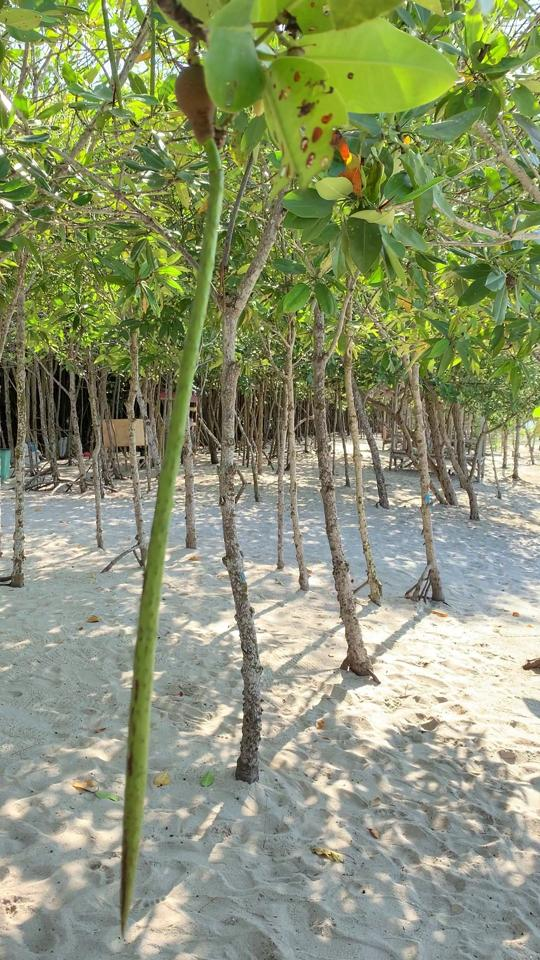mentah: (98, 41, 254, 941)
